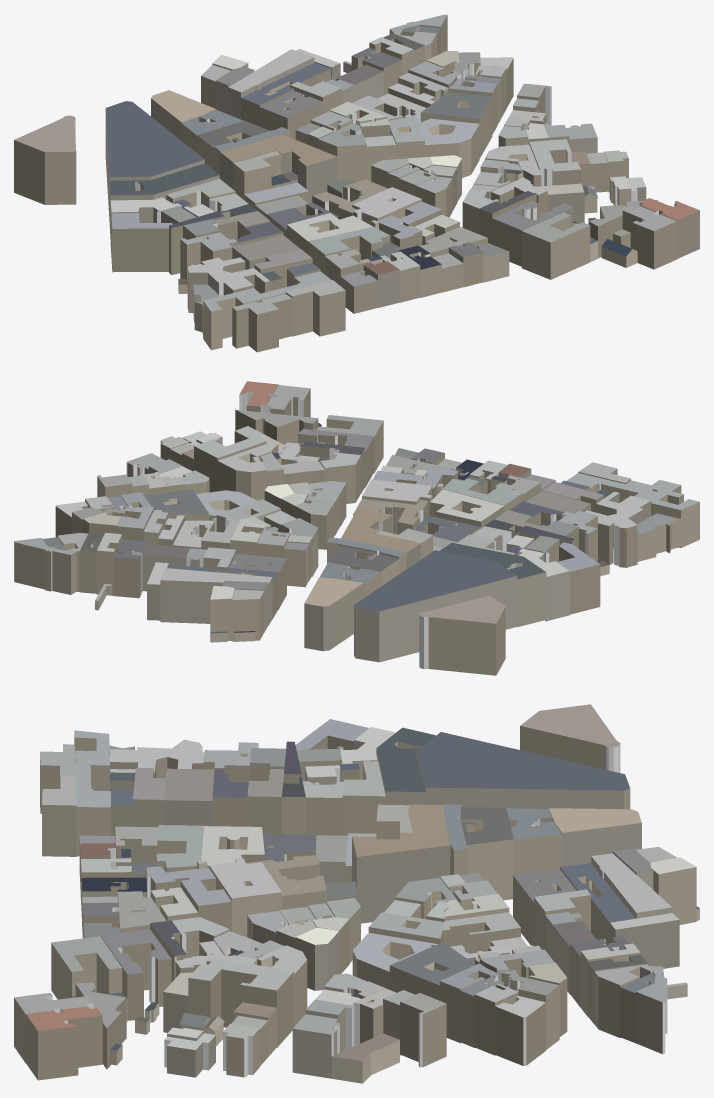
The picture shows the model from 3 angles, top to bottom: view 1: azimuth 30°, elevation 25°; view 2: azimuth 150°, elevation 25°; view 3: azimuth 270°, elevation 25°; orthographic projection. The views are drawn at different scales.
Visible parts, largest first — view 1: tuile; view 2: tuile; view 3: tuile.
Boxes of the visible parts, x1=… form: tuile: x1=14, y1=14, x2=699, y2=352; tuile: x1=14, y1=381, x2=699, y2=675; tuile: x1=14, y1=704, x2=699, y2=1083.
Bounding box in the file's own units: 272 × 34.86 × 259.
